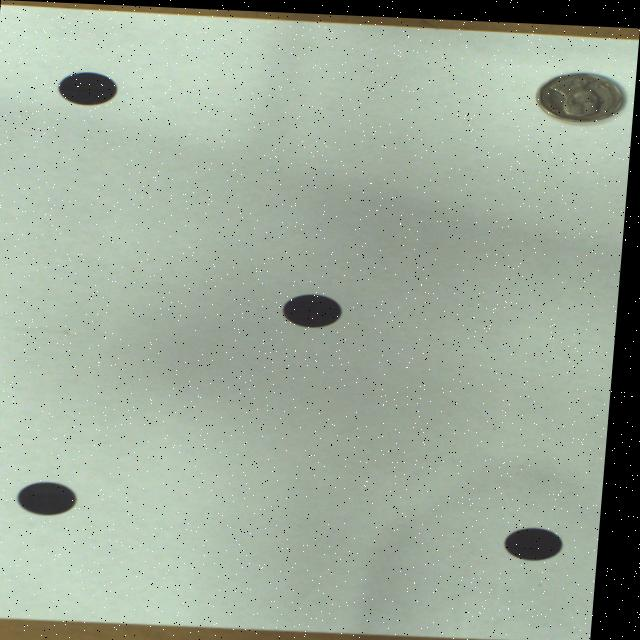head5bath: (538, 68, 625, 116)
space: (59, 71, 117, 104), (287, 291, 345, 324), (512, 522, 570, 555), (26, 482, 84, 515)
